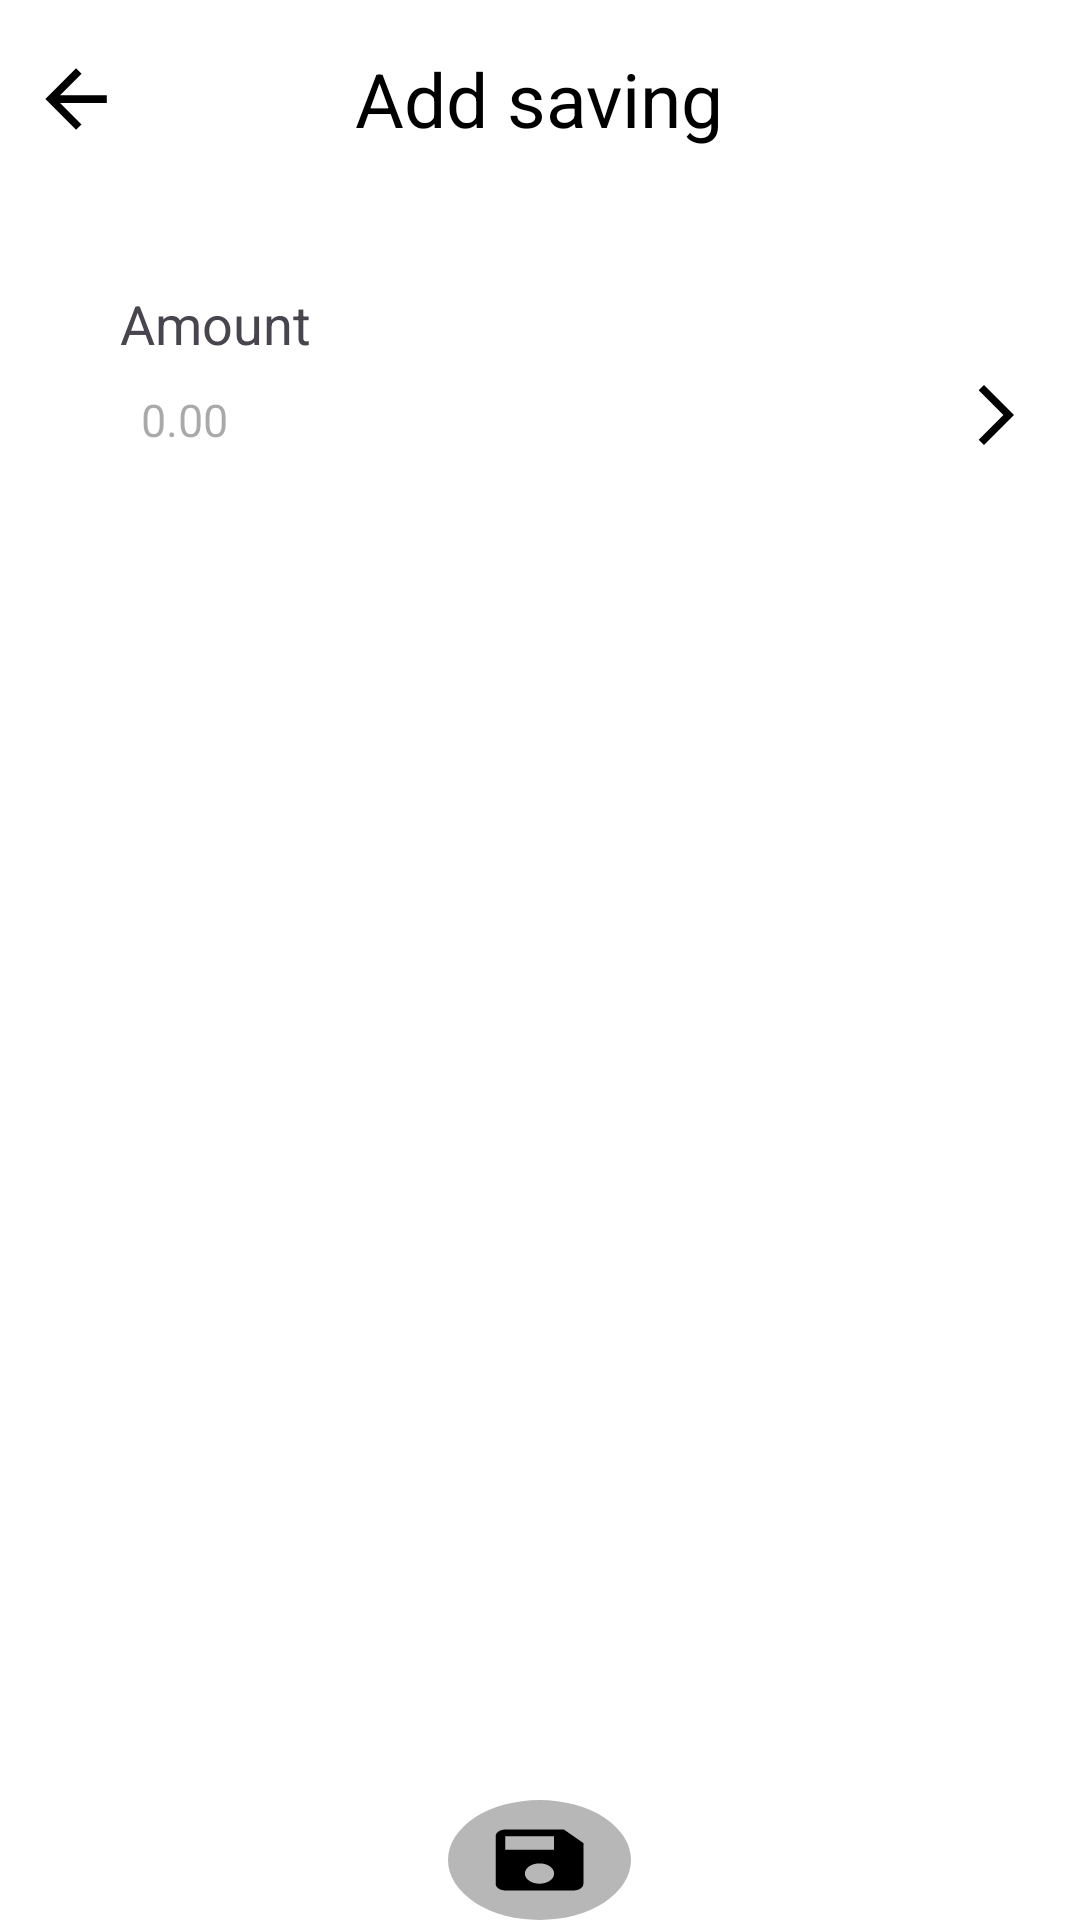

Screen size 1080w x 1920h. Icon name, then its center in pixels as (x,y):
arrow back: (76,99)
arrow forward: (996,415)
